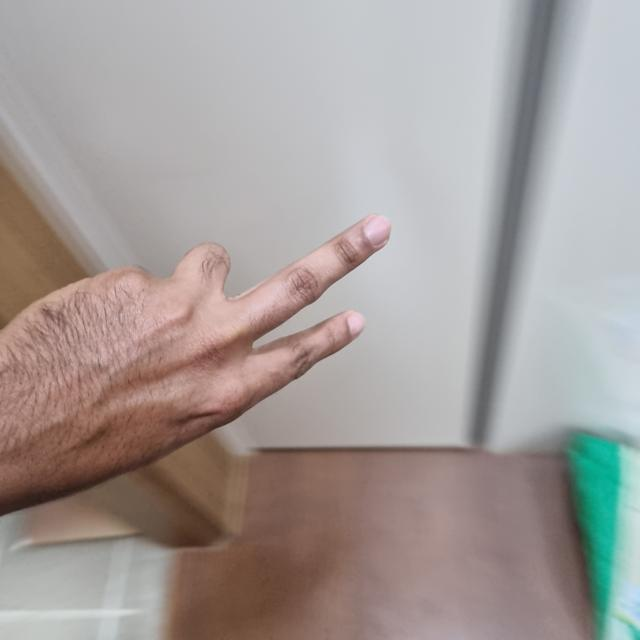Scissors: (0, 222, 380, 522)
